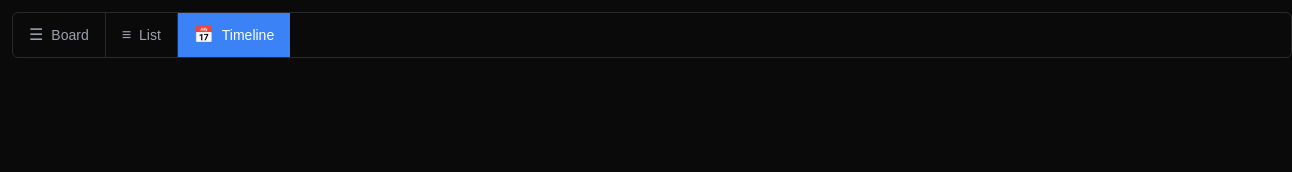
ViewSwitcher › accessibility › should be activatable with Enter key
# Click the board tab (simulates keyboard activation in a real browser)
Click the tab "☰ Board" at coordinates (59, 35), box x1=13 y1=13 x2=106 y2=57
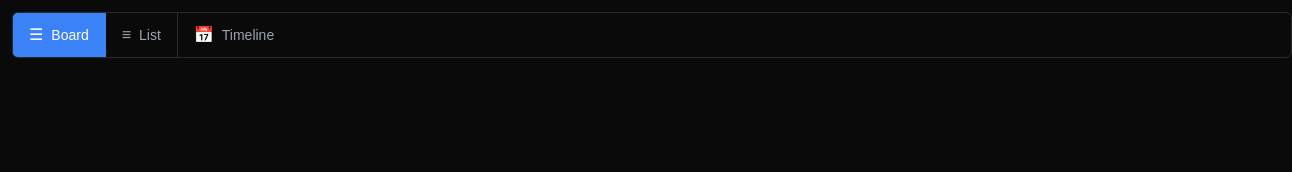
Expected: the tab "☰ Board" is selected, x1=13 y1=13 x2=106 y2=57
